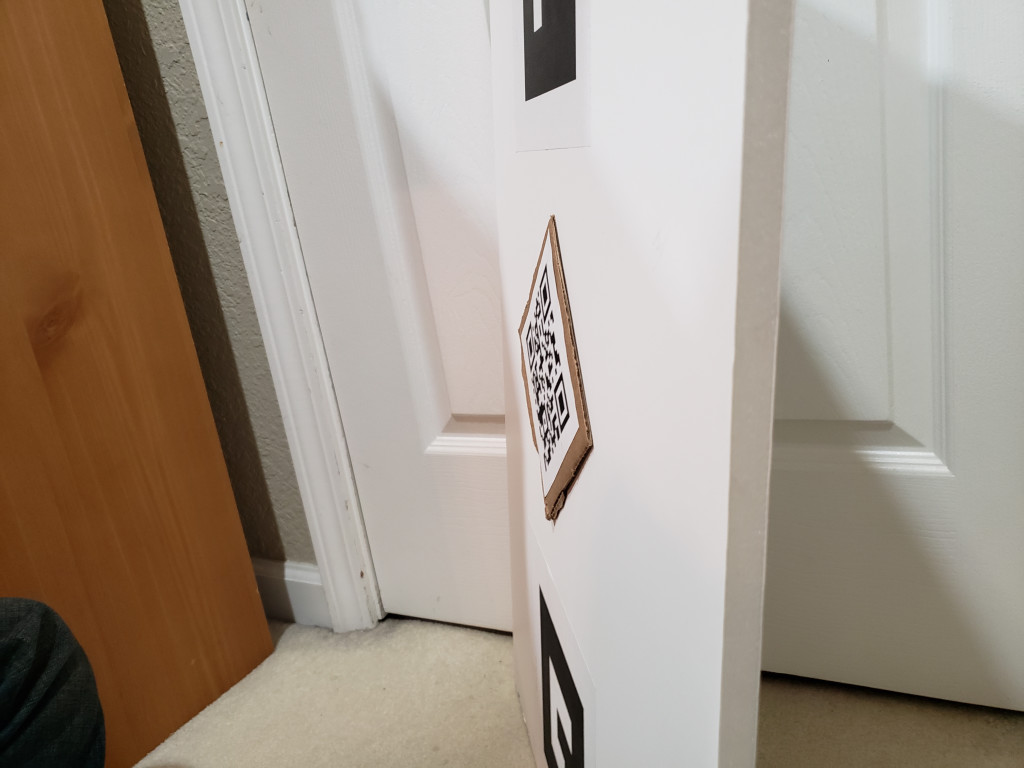QR_CODE: (512, 253, 581, 484)
